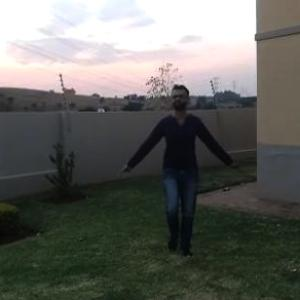land: (131, 97, 222, 225)
